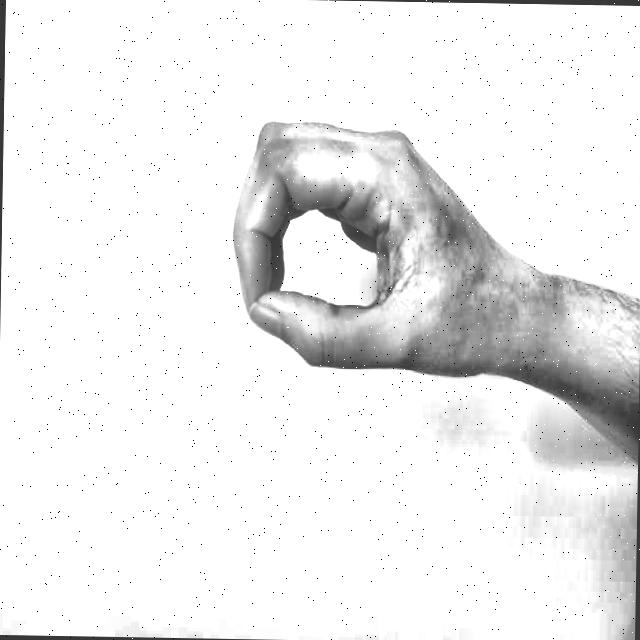O: (207, 88, 508, 424)
